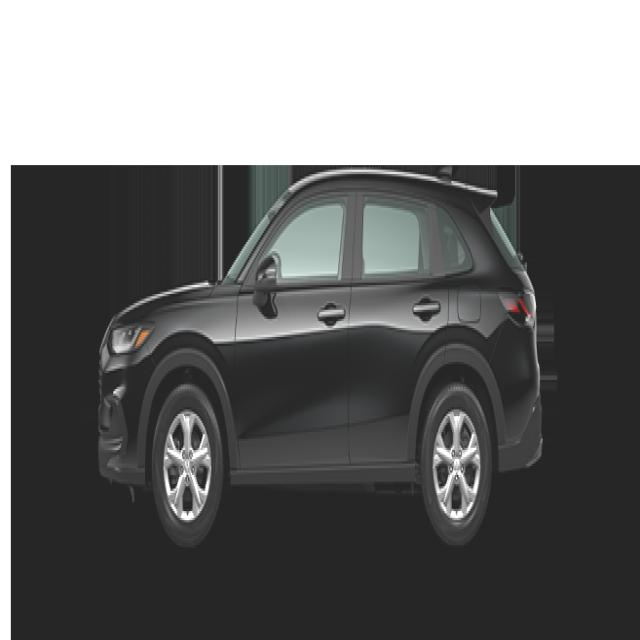SUV: (92, 165, 542, 555)
